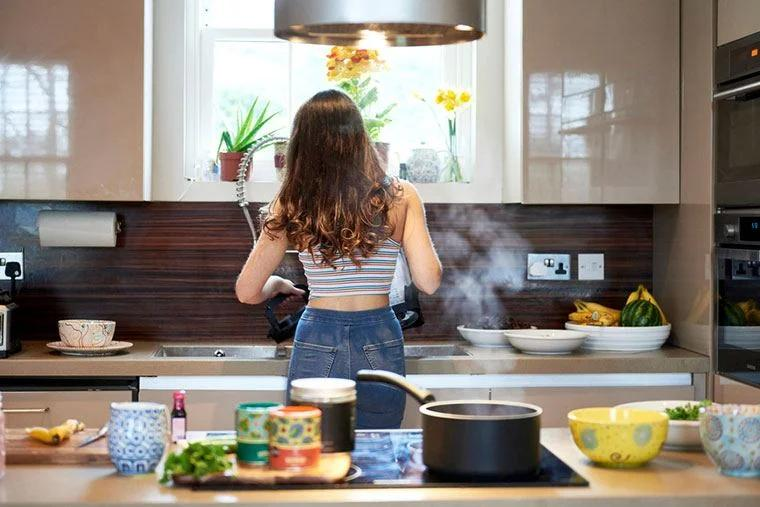controlled_fire: (433, 207, 537, 442)
